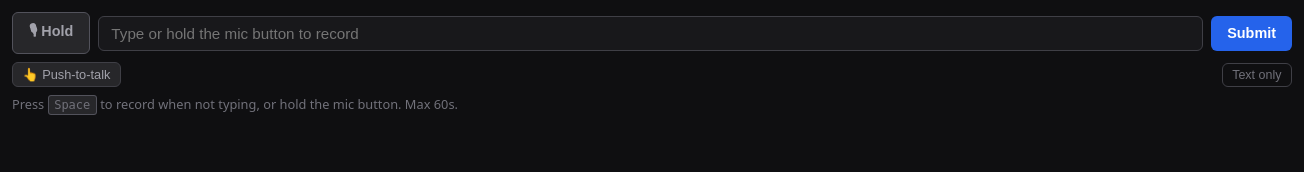
it: VoiceInput — text-only fallback (voice-to-text switch) › switching to text-only shows the text-only notice and hides the mic button area
The image size is (1304, 172).
Click the button with aria-label "switch to text-only". click: (1257, 74)
box: top-left (1222, 62), bottom-right (1292, 86)
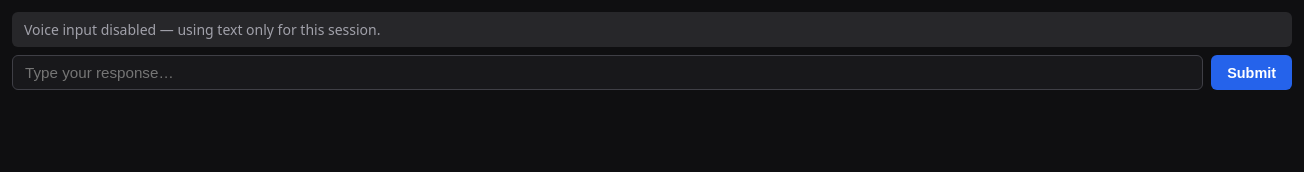
expect the message "Voice input disabled — using text only for this session." is shown: met, box top-left (12, 12), bottom-right (1292, 47)
